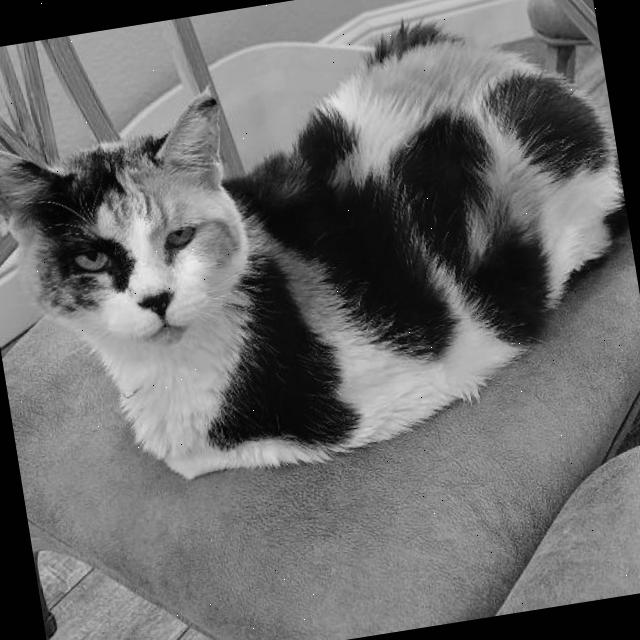calico_cat: (0, 80, 275, 384)
